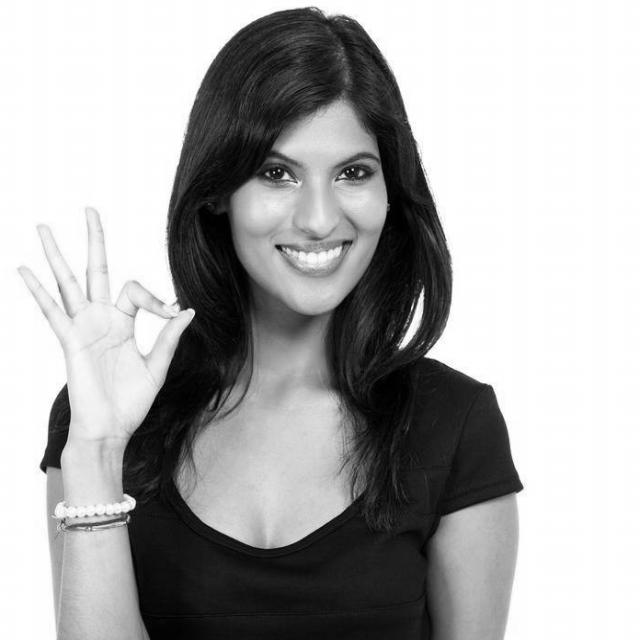perfect: (10, 198, 201, 467)
